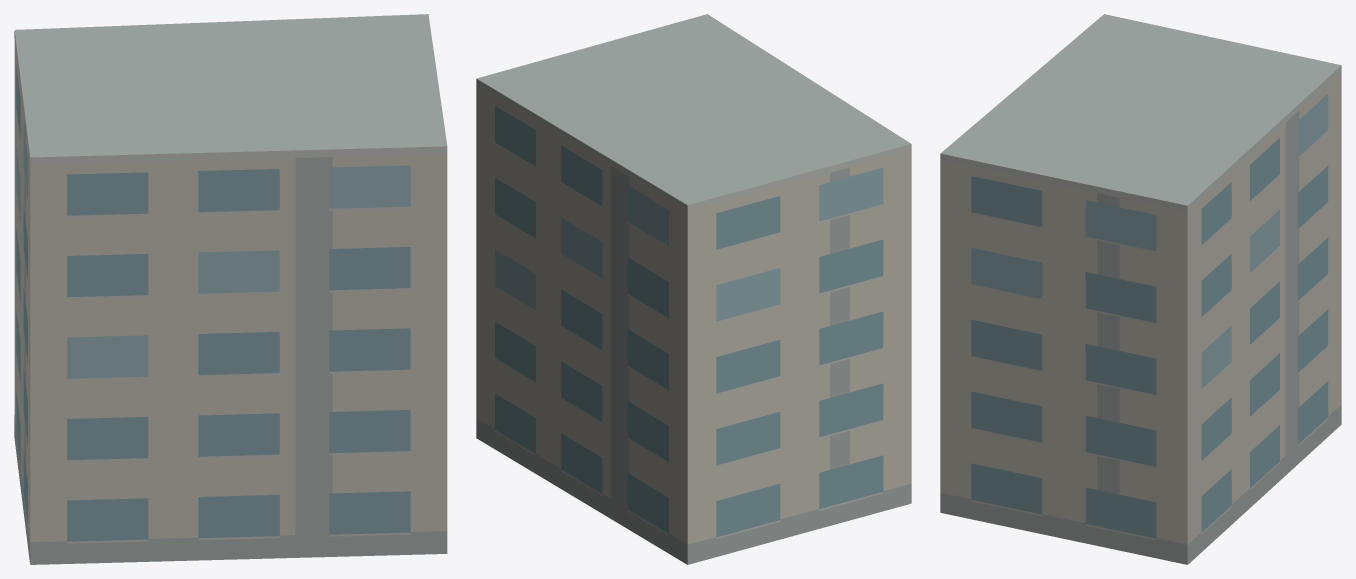
File: survey-upis-32886055.glb
3 views of the same model, side by side, from view 1: azimuth 30°, elevation 25°; view 2: azimuth 150°, elevation 25°; view 3: azimuth 270°, elevation 25° (orthographic). The views are drawn at different scales.
Parts seen in each view (by area): view 1: survey-upis-32886055.tmp; view 2: survey-upis-32886055.tmp; view 3: survey-upis-32886055.tmp.
Part boxes in pixels (x1=…): survey-upis-32886055.tmp: x1=14, y1=14, x2=447, y2=564; survey-upis-32886055.tmp: x1=476, y1=14, x2=911, y2=564; survey-upis-32886055.tmp: x1=940, y1=14, x2=1341, y2=564.
Size of the model in its own units: 15.12 by 13.2 by 13.37.
